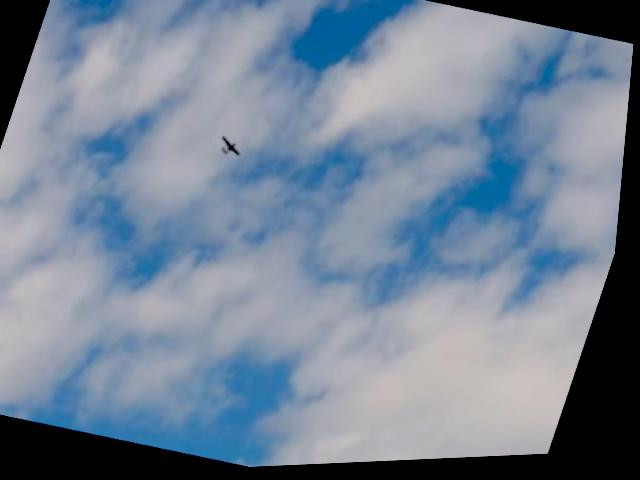uav: (215, 135, 251, 168)
